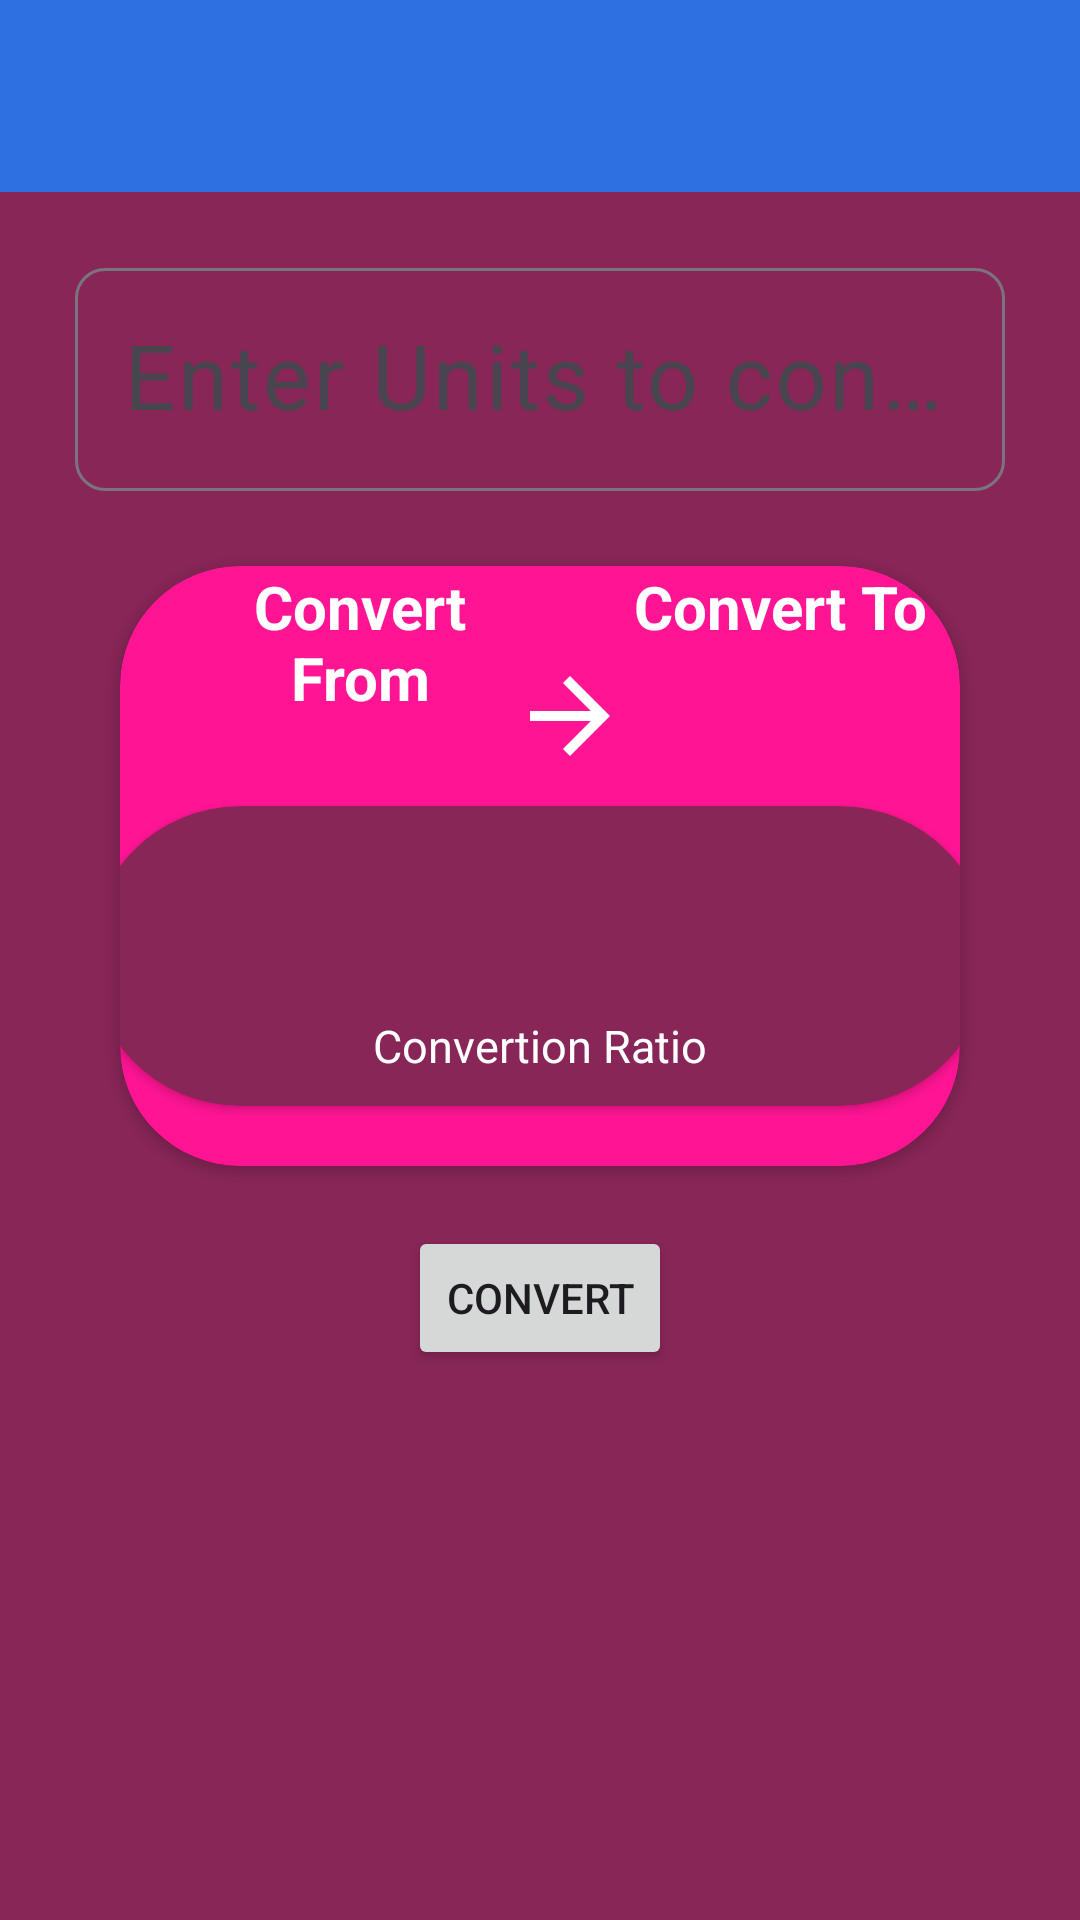

Locate icon controls on the screen. Image size 1080px×1920px, boxes as (x1, y1, x2, y2).
arrow forward: (530, 676, 610, 756)
